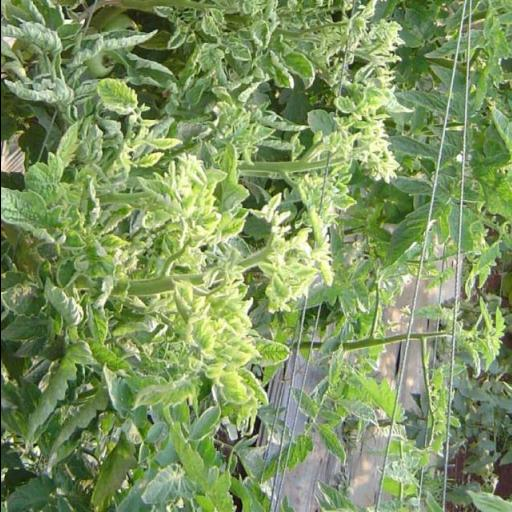Yellow Leaf Curl Virus: (0, 182, 62, 246), (98, 76, 140, 114), (278, 44, 314, 88), (250, 338, 290, 370), (56, 122, 80, 170), (248, 12, 271, 52), (196, 12, 220, 43), (134, 150, 166, 168), (144, 136, 182, 150)
